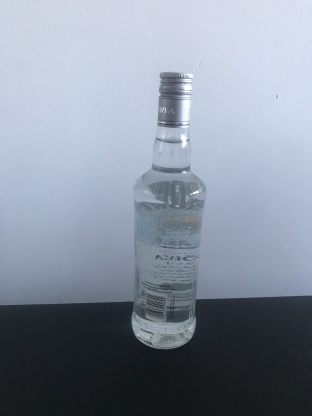nakretka: (155, 69, 195, 130)
